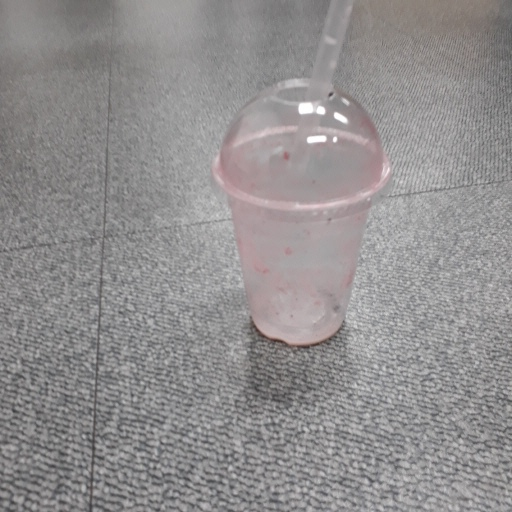Plastic_2: (215, 1, 392, 346)
